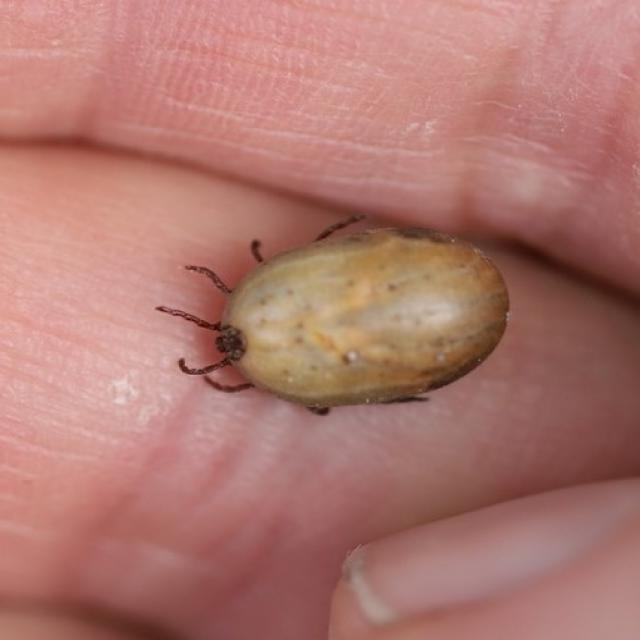Dermacentor Reticulatus-F-Fed: (154, 215, 510, 416)
